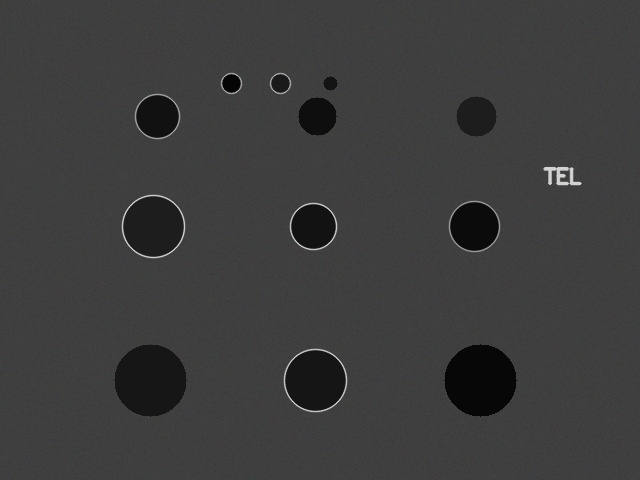hole: (114, 344, 186, 416), (444, 344, 516, 416), (122, 195, 184, 257), (284, 349, 346, 411), (449, 201, 499, 251), (290, 203, 336, 249), (135, 94, 179, 138), (456, 96, 496, 136), (298, 97, 336, 135), (221, 73, 241, 93), (270, 73, 290, 93), (323, 76, 337, 90)
